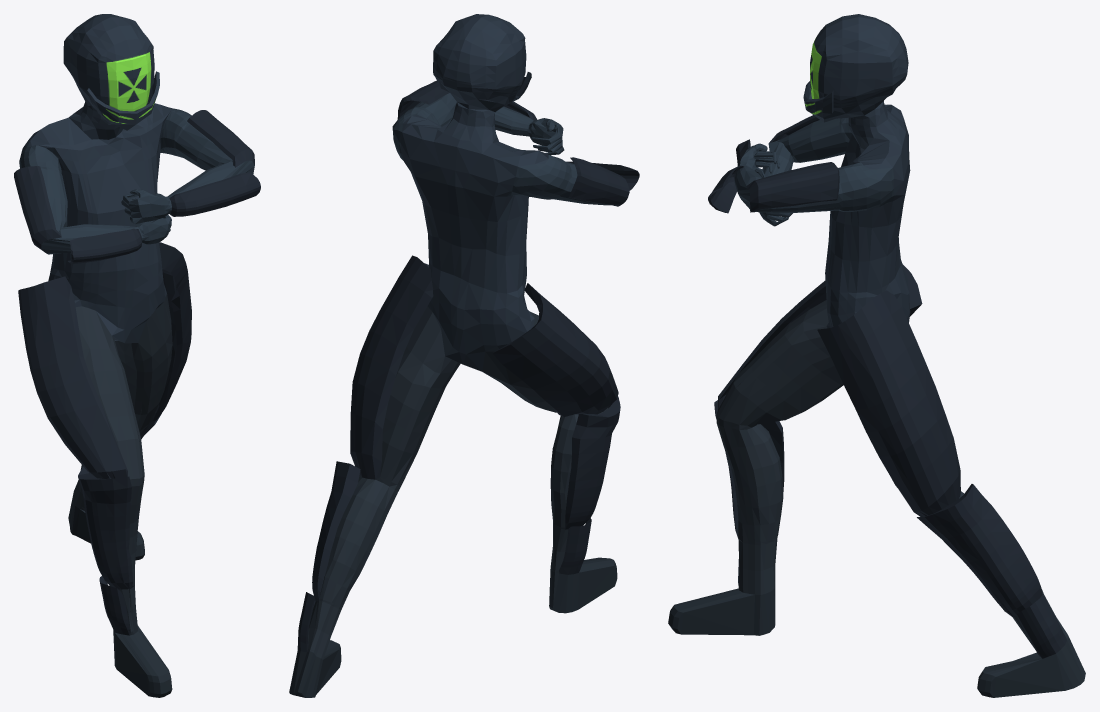
File: Bastion_WR_000014.obj
The picture shows the model from 3 angles, left to right: view 1: azimuth 30°, elevation 25°; view 2: azimuth 150°, elevation 25°; view 3: azimuth 270°, elevation 25°; orthographic projection. The views are drawn at different scales.
Parts seen in each view (by area): view 1: Cube.002; view 2: Cube.002; view 3: Cube.002.
Boxes of the visible parts, x1,y1,x2,y2 form: Cube.002: (14, 14, 260, 697); Cube.002: (289, 14, 639, 697); Cube.002: (668, 14, 1085, 697).
Bounding box in the file's own units: 1.31 × 3.6 × 2.15.
